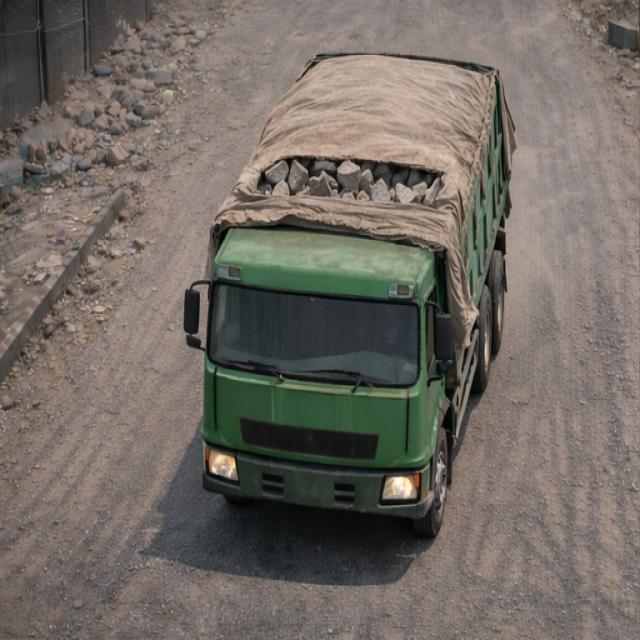trailer: (209, 51, 498, 222)
truck: (182, 46, 514, 537)
